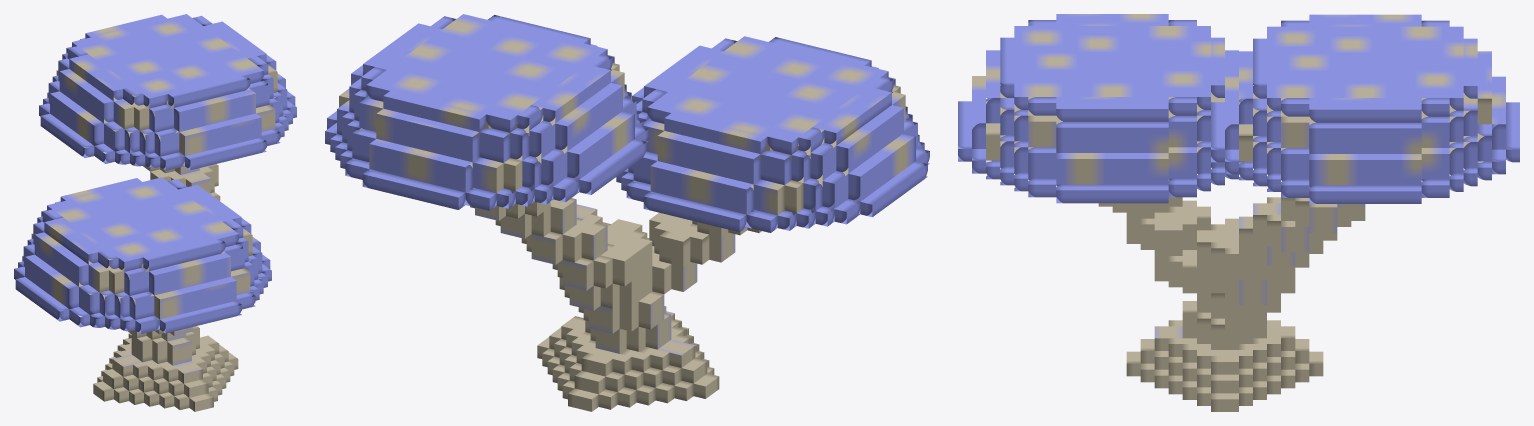
The model's file is MushWood4.dae.
The picture shows the model from 3 angles, left to right: view 1: azimuth 30°, elevation 25°; view 2: azimuth 150°, elevation 25°; view 3: azimuth 270°, elevation 25°; orthographic projection. The views are drawn at different scales.
Visible parts, largest first — view 1: Node-local; view 2: Node-local; view 3: Node-local.
Boxes of the visible parts, x1=… form: Node-local: x1=14, y1=14, x2=296, y2=411; Node-local: x1=325, y1=14, x2=929, y2=411; Node-local: x1=958, y1=14, x2=1519, y2=411.
Bounding box in the file's own units: 35 × 27 × 40.
